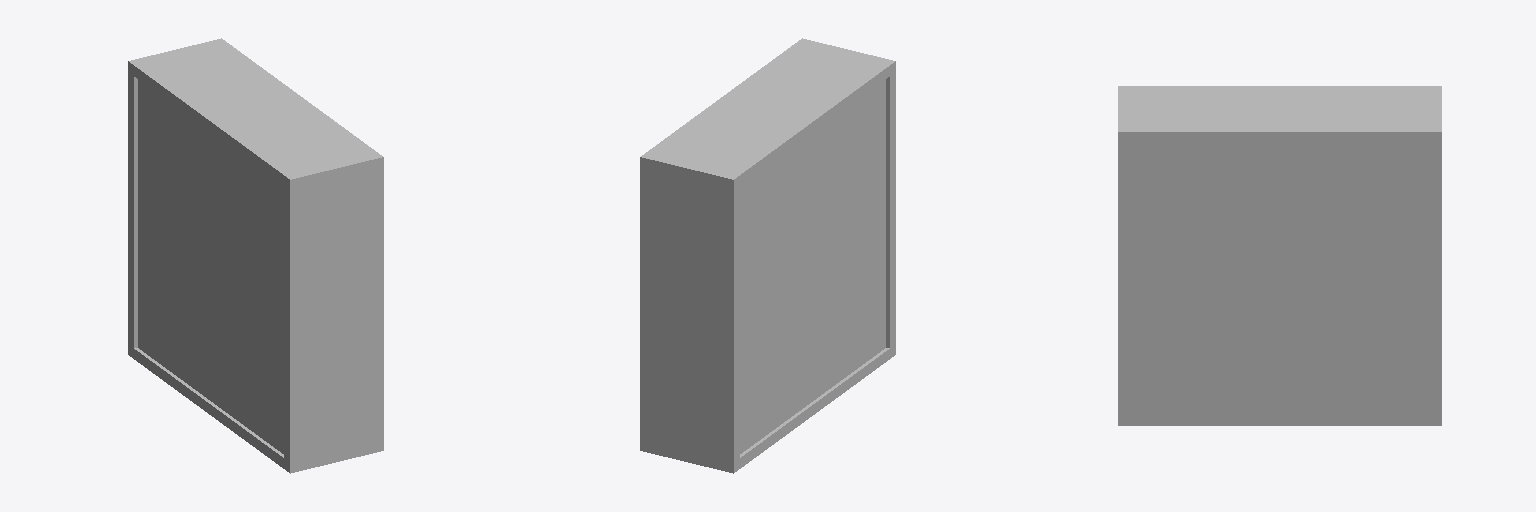
The model's file is display3x3.obj.
3 renders of one model, left to right at view 1: azimuth 30°, elevation 25°; view 2: azimuth 150°, elevation 25°; view 3: azimuth 270°, elevation 25°, orthographic.
Parts seen in each view (by area): view 1: Cube_Cube.006; view 2: Cube_Cube.006; view 3: Cube_Cube.006.
Part boxes in pixels (x1,y1,x2,y2): Cube_Cube.006: (128,38,383,473); Cube_Cube.006: (640,38,895,473); Cube_Cube.006: (1118,86,1441,425).
Bounding box in the file's own units: 1 × 3 × 3.